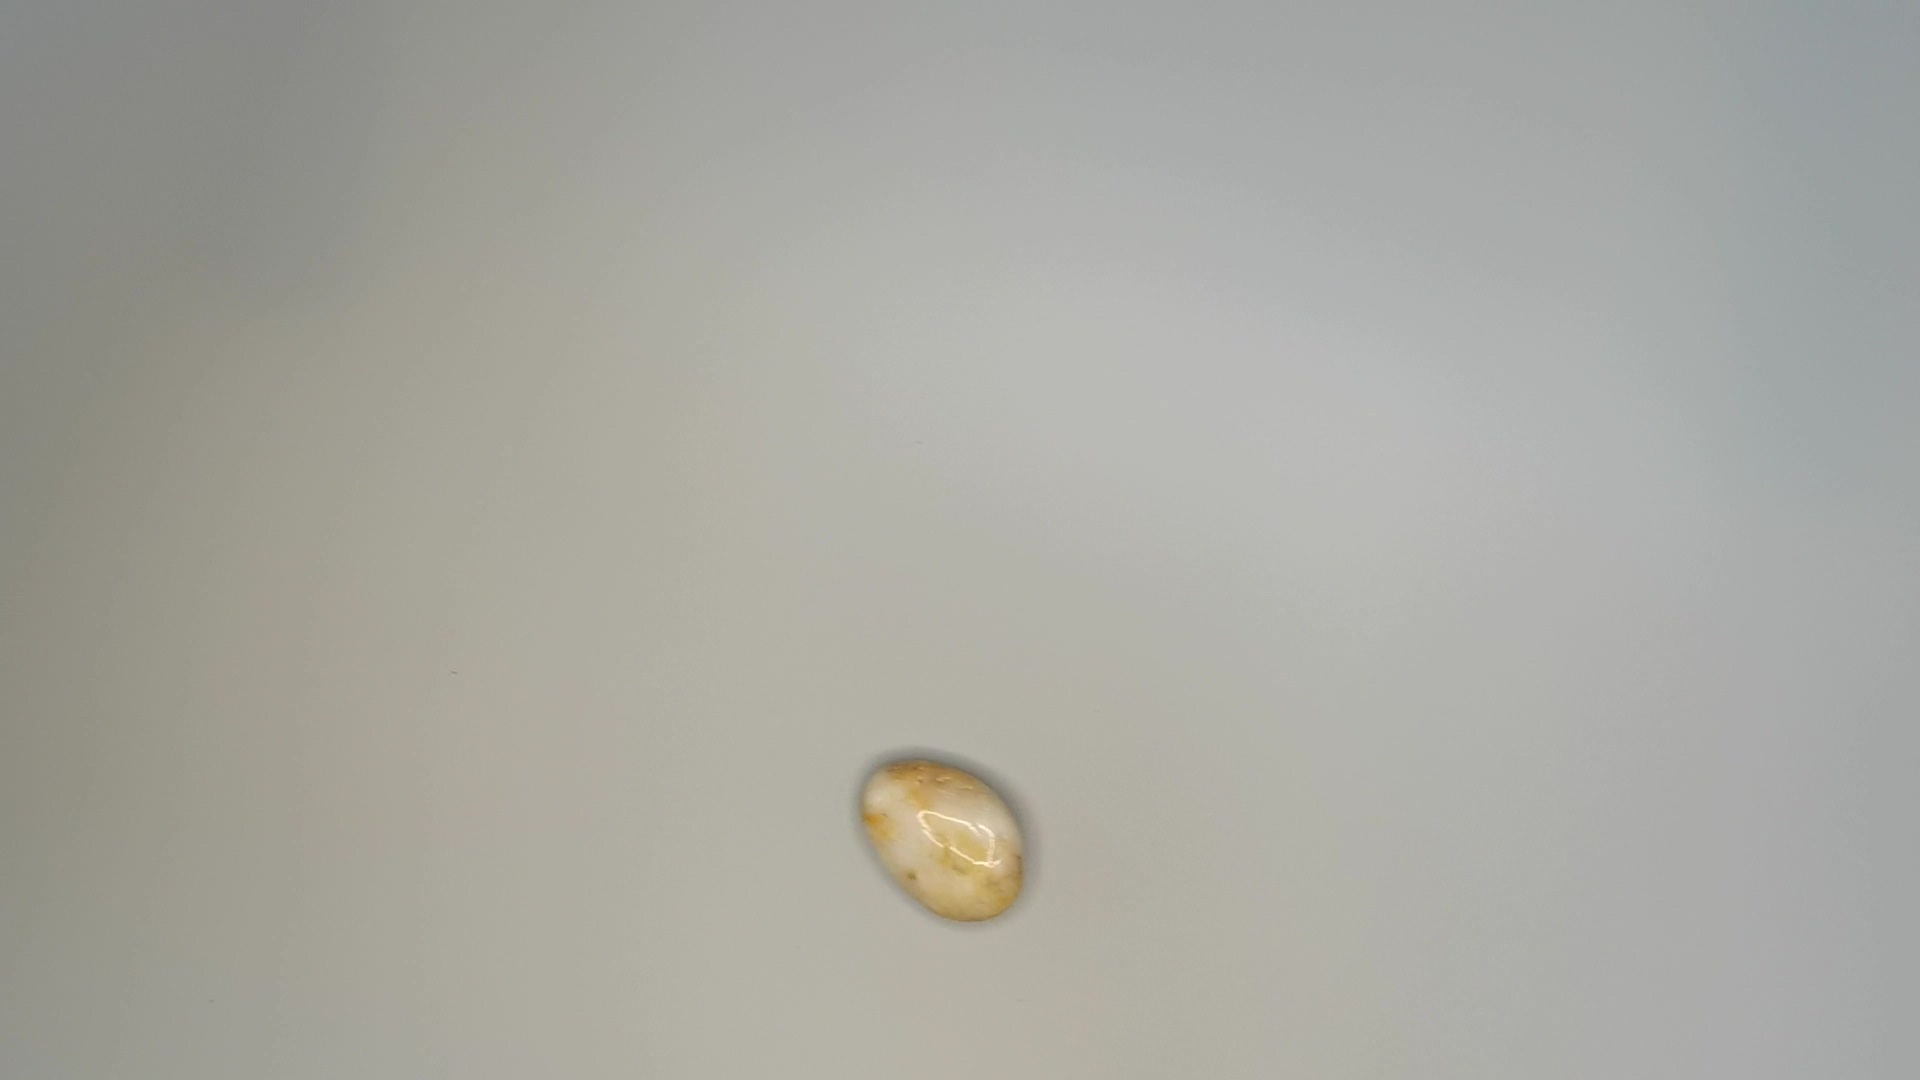ceramic: (845, 756, 1043, 930)
